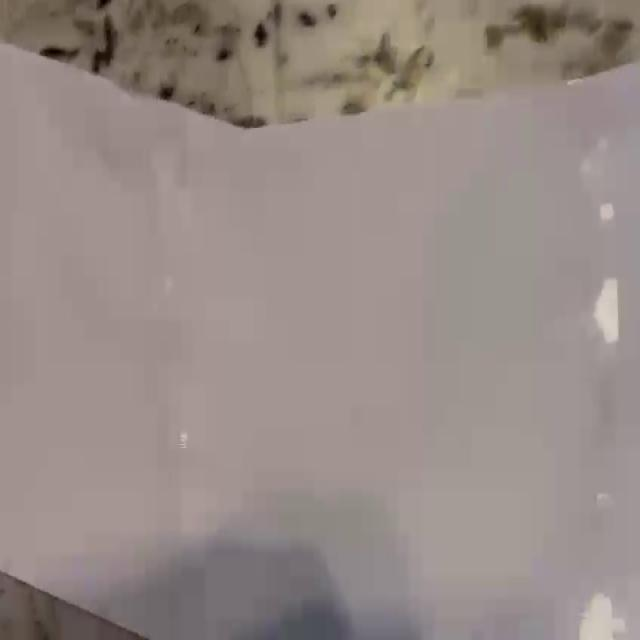road: (0, 45, 640, 639)
